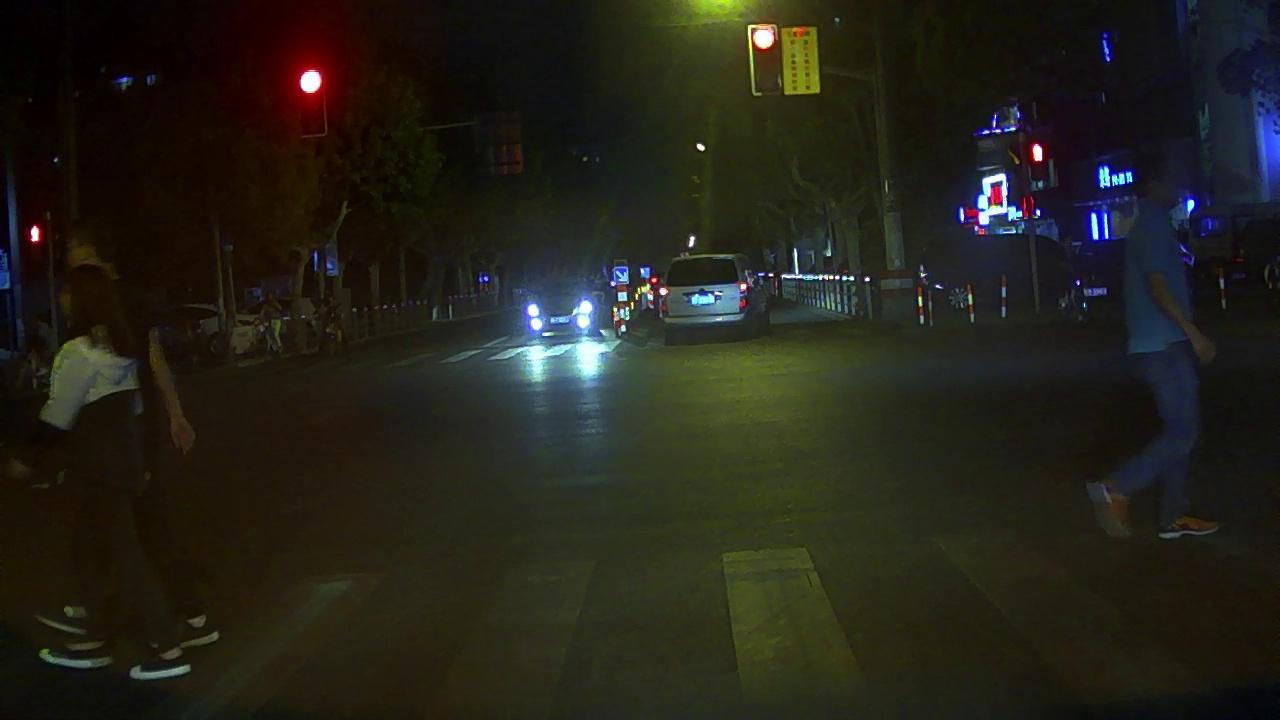traffic_light: (749, 24, 780, 93), (290, 57, 331, 99)
